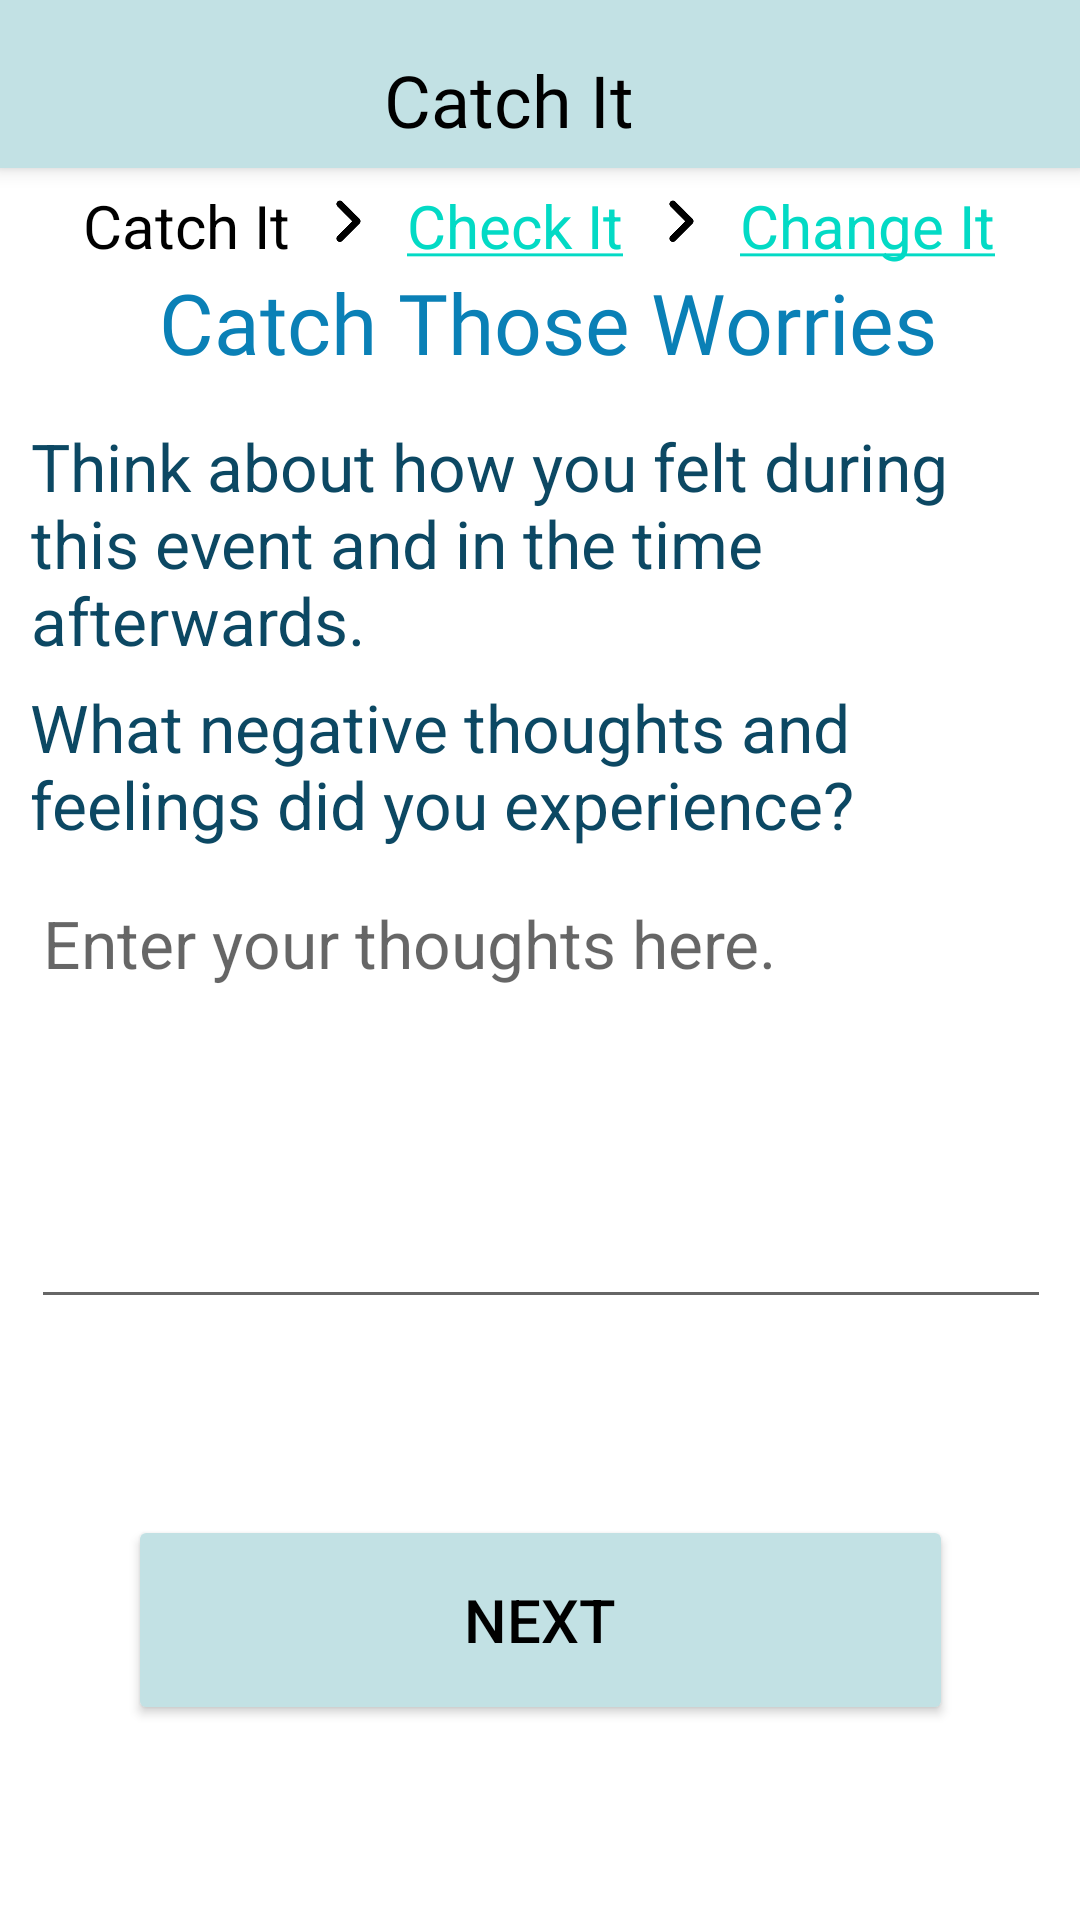

Icons on this 1080 x 1920 Android screen, each with its box as (x1, y1, x2, y2):
right: (336, 200, 361, 242), (669, 200, 694, 242)
